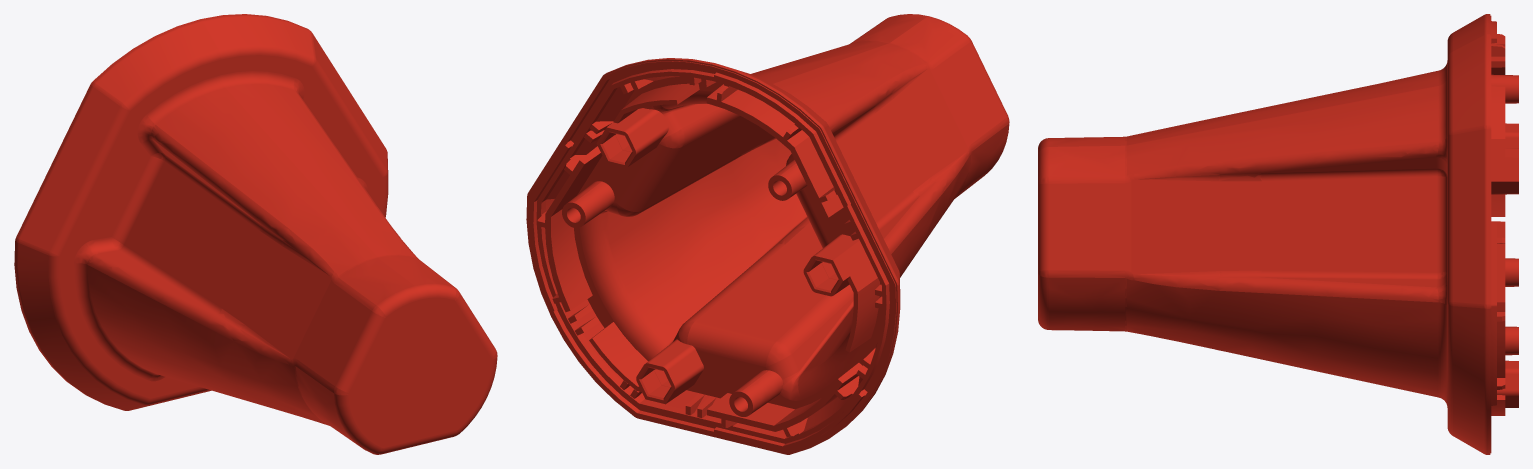
File: pin_upper.obj
3 views of the same model, side by side, from view 1: azimuth 30°, elevation 25°; view 2: azimuth 150°, elevation 25°; view 3: azimuth 270°, elevation 25° (orthographic). The views are drawn at different scales.
Size of the model in its own units: 0.0803 by 0.0768 by 0.0875.
